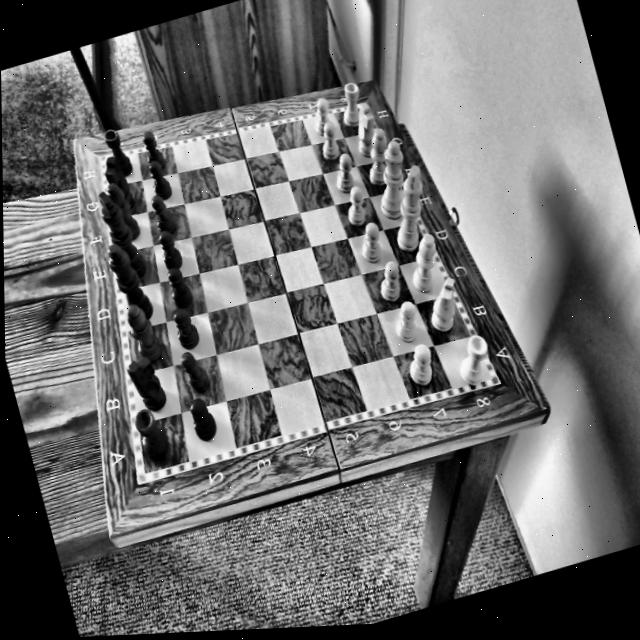black-bishop: (121, 298, 167, 366), (105, 179, 142, 242)
black-king: (93, 186, 146, 286)
black-knight: (125, 351, 169, 414), (99, 147, 135, 214)
black-pawn: (183, 394, 222, 446), (150, 223, 188, 272), (146, 185, 180, 239), (160, 264, 195, 312), (178, 344, 210, 396), (135, 122, 167, 173), (143, 155, 174, 200), (171, 307, 199, 350)
black-queen: (104, 239, 154, 328)
black-rook: (129, 401, 174, 466), (100, 123, 132, 180)
white-bishop: (399, 229, 449, 296), (356, 122, 399, 191)
white-king: (376, 161, 442, 259)
white-knight: (419, 271, 469, 336), (346, 97, 386, 162)
white-pawn: (370, 253, 410, 308), (387, 297, 426, 346), (352, 219, 388, 271), (304, 92, 339, 143), (336, 183, 372, 230), (404, 342, 438, 390), (310, 116, 344, 163), (328, 150, 360, 196)
white-queen: (364, 138, 417, 224)
white-rook: (447, 319, 502, 391), (332, 77, 367, 133)
